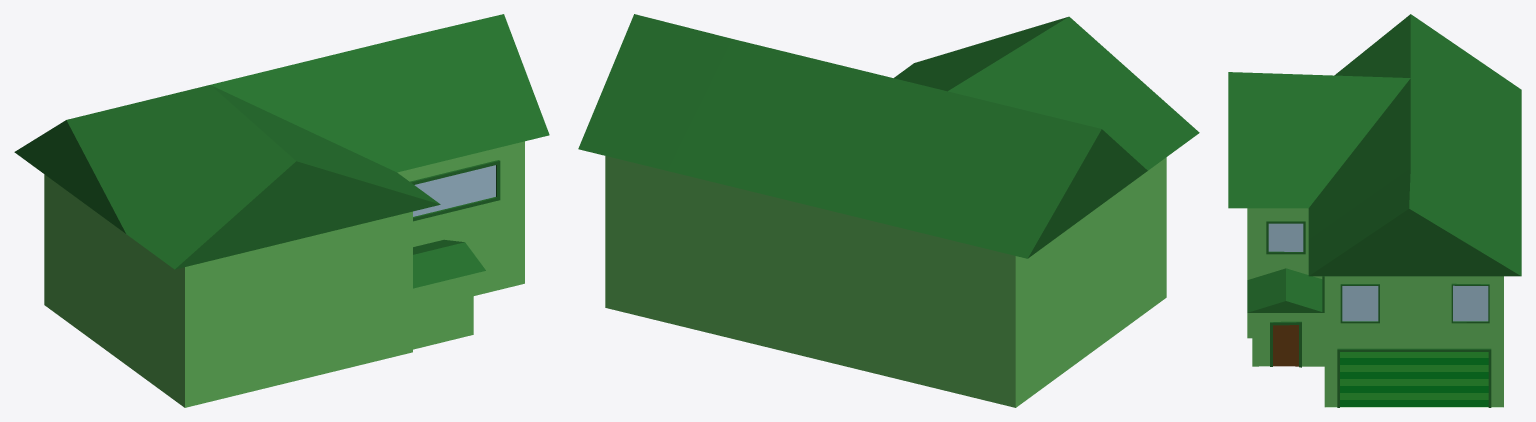
File: green residential building 2.fbx
3 views of the same model, side by side, from view 1: azimuth 30°, elevation 25°; view 2: azimuth 150°, elevation 25°; view 3: azimuth 270°, elevation 25° (orthographic). The views are drawn at different scales.
Parts seen in each view (by area): view 1: Cube; view 2: Cube; view 3: Cube.
Part boxes in pixels (x1,y1,x2,y2): Cube: [14, 14, 549, 407]; Cube: [578, 14, 1199, 407]; Cube: [1228, 14, 1521, 407].
Size of the model in its own units: 1191 by 599 by 758.
